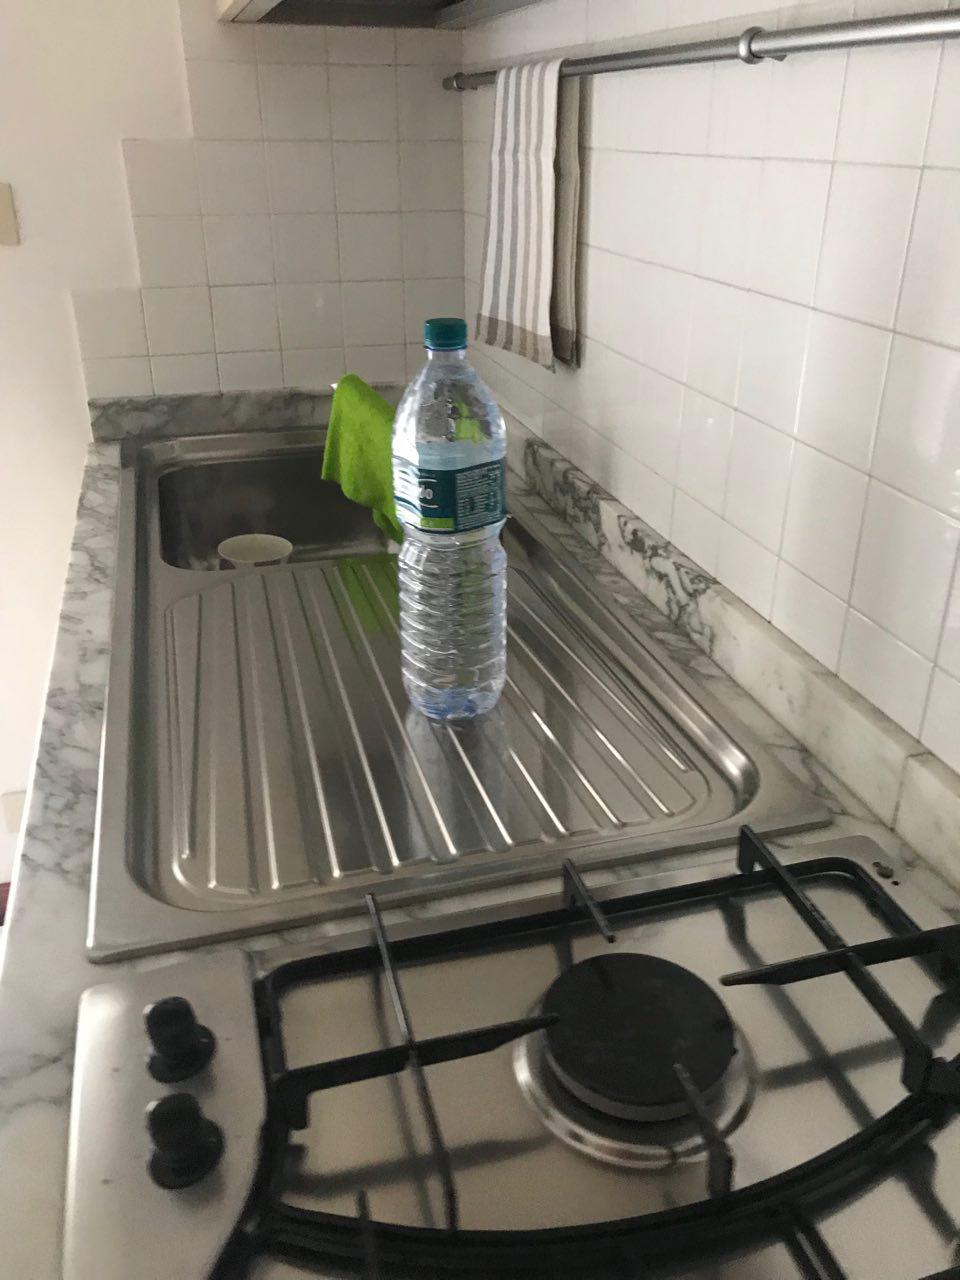san_bernardo: (391, 318, 508, 720)
